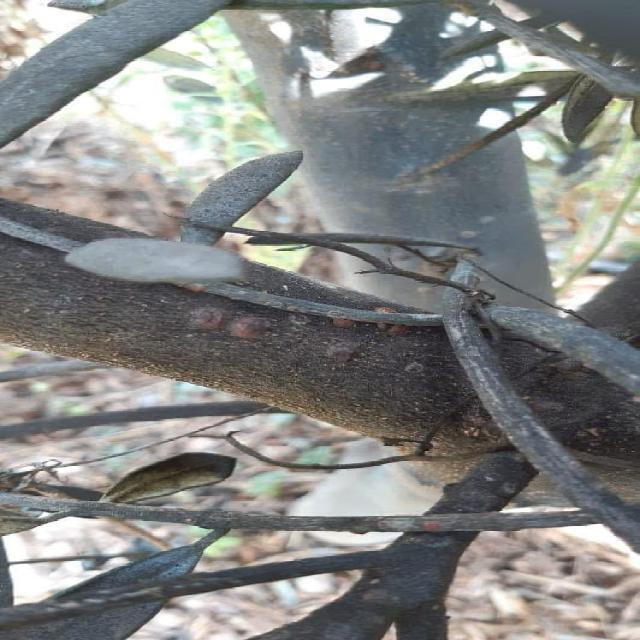BlackScale: (228, 318, 270, 338), (190, 307, 226, 329), (326, 341, 358, 360)
